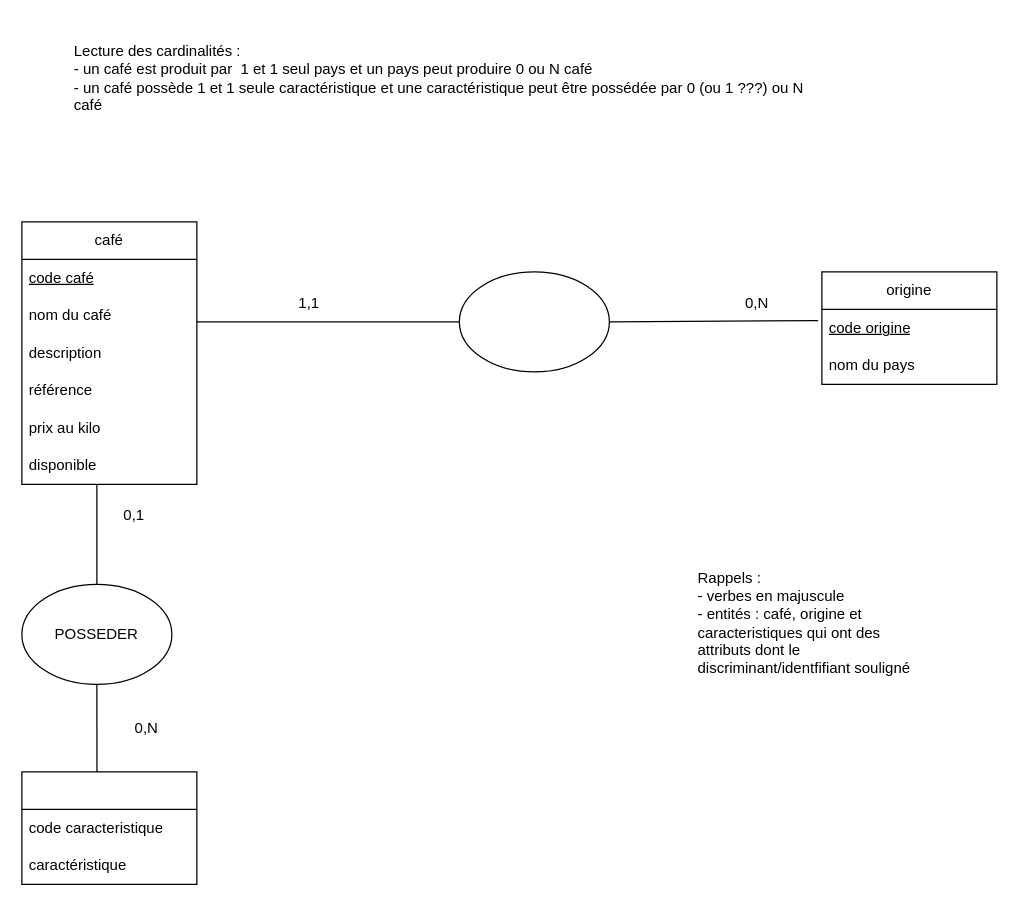
This 1019x906 diagram has some shape labels left out. The box of each missing label's shape, as (x1, y1, x2, y2) in pixels:
caractéristiques: (21, 771, 197, 884)
PRODUIRE: (458, 271, 609, 372)
